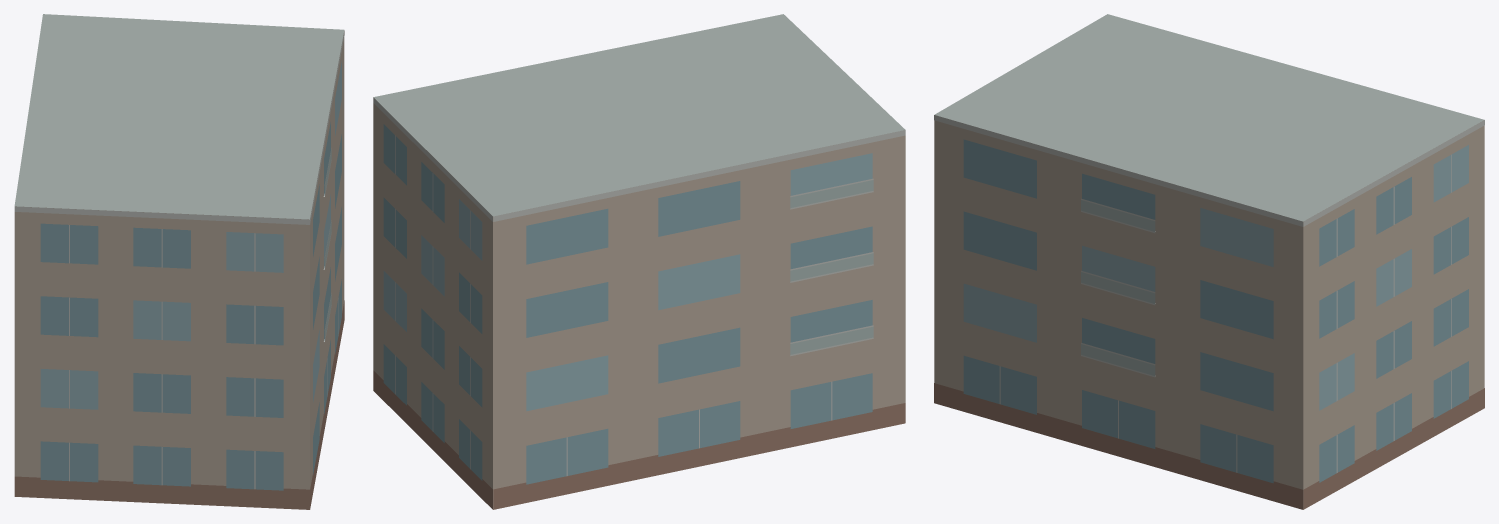
Rendered from survey-upis-33032930.glb.
3 renders of one model, left to right at view 1: azimuth 30°, elevation 25°; view 2: azimuth 150°, elevation 25°; view 3: azimuth 270°, elevation 25°, orthographic.
Visible parts, largest first — view 1: survey-upis-33032930.tmp; view 2: survey-upis-33032930.tmp; view 3: survey-upis-33032930.tmp.
Boxes of the visible parts, x1,y1,x2,y2 form: survey-upis-33032930.tmp: [14, 14, 344, 509]; survey-upis-33032930.tmp: [373, 14, 905, 509]; survey-upis-33032930.tmp: [934, 14, 1484, 509].
Bounding box in the file's own units: 19.93 × 12.9 × 22.34.
